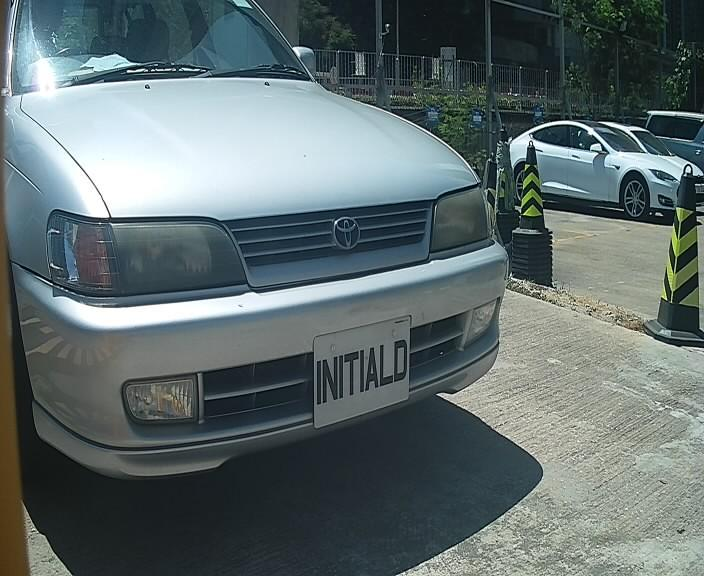privatecar: (1, 21, 554, 528)
